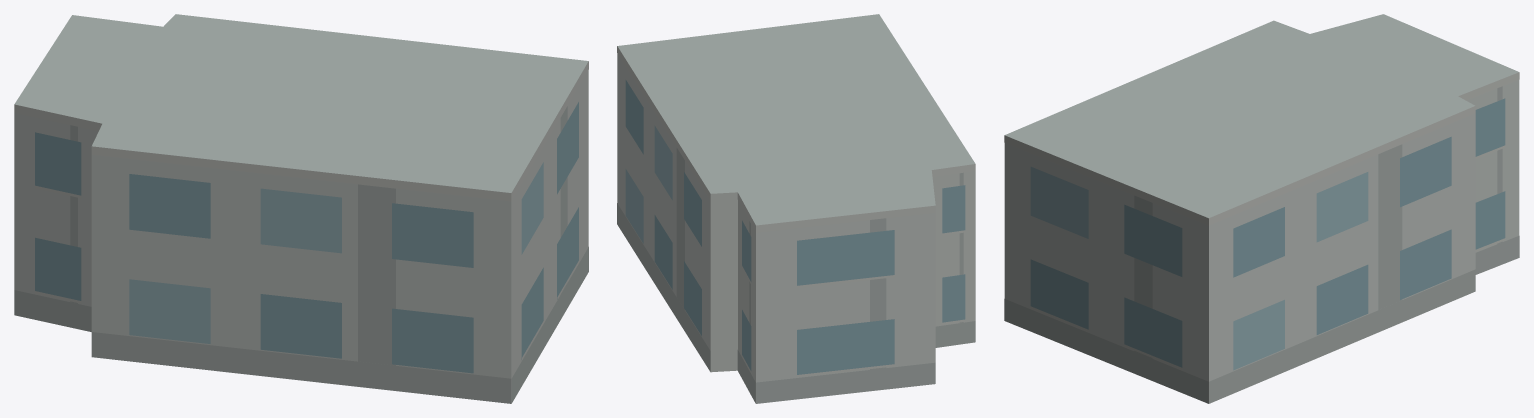
The model's file is survey-upis-32766731.glb.
3 renders of one model, left to right at view 1: azimuth 30°, elevation 25°; view 2: azimuth 150°, elevation 25°; view 3: azimuth 270°, elevation 25°, orthographic. The views are drawn at different scales.
Parts seen in each view (by area): view 1: survey-upis-32766731.tmp; view 2: survey-upis-32766731.tmp; view 3: survey-upis-32766731.tmp.
Boxes of the visible parts, x1=… form: survey-upis-32766731.tmp: x1=14, y1=14, x2=588, y2=403; survey-upis-32766731.tmp: x1=617, y1=14, x2=975, y2=403; survey-upis-32766731.tmp: x1=1004, y1=14, x2=1519, y2=403.
Bounding box in the file's own units: 14.41 × 6.1 × 15.35.
